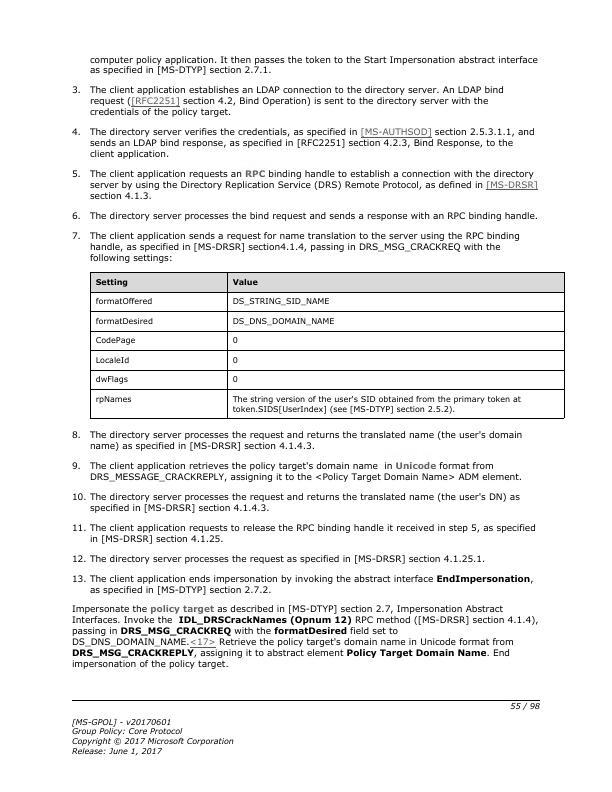table: (91, 272, 566, 418)
text: (69, 603, 540, 670), (69, 229, 523, 265), (70, 168, 540, 202), (69, 83, 506, 119), (70, 127, 537, 160), (70, 490, 521, 516), (70, 460, 525, 484), (70, 522, 538, 545), (71, 429, 524, 451), (71, 573, 535, 594), (88, 55, 540, 75), (68, 716, 235, 758), (71, 208, 539, 222), (69, 552, 487, 565)
